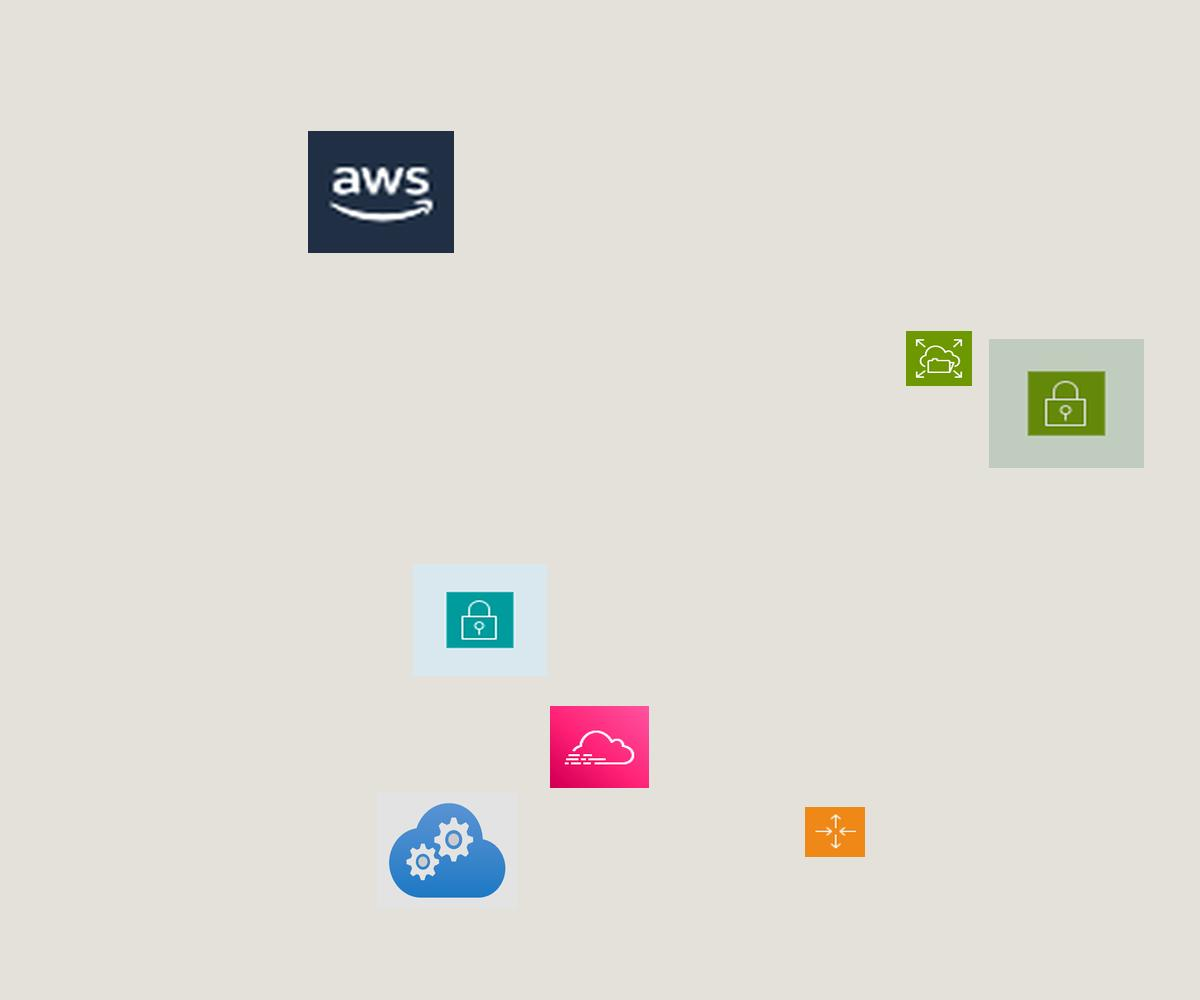AWS-Cloud-logo: (308, 131, 454, 253)
AWS-CloudTrail: (550, 706, 649, 788)
AWS-EFS: (906, 331, 972, 386)
AWS-Private-subnet: (413, 564, 547, 676)
AWS-Public-subnet: (989, 339, 1144, 468)
AWS-Scaling-group: (805, 807, 865, 857)
Azure_cloud_services: (377, 792, 517, 909)
